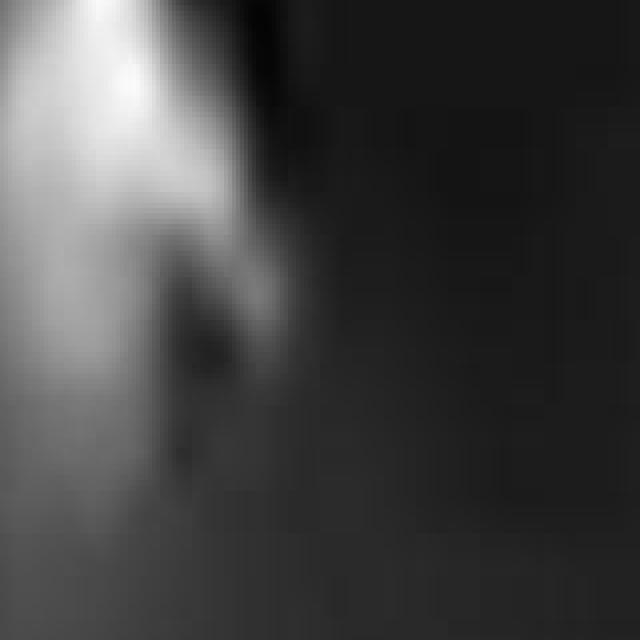person: (1, 1, 269, 513)
